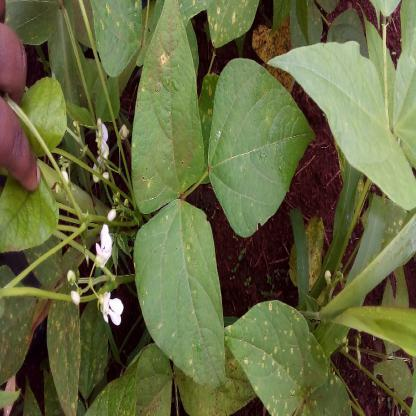Beans_Rust: (264, 43, 416, 208), (137, 200, 230, 389), (131, 0, 209, 214), (226, 300, 329, 414), (94, 0, 142, 78), (208, 0, 260, 49)
